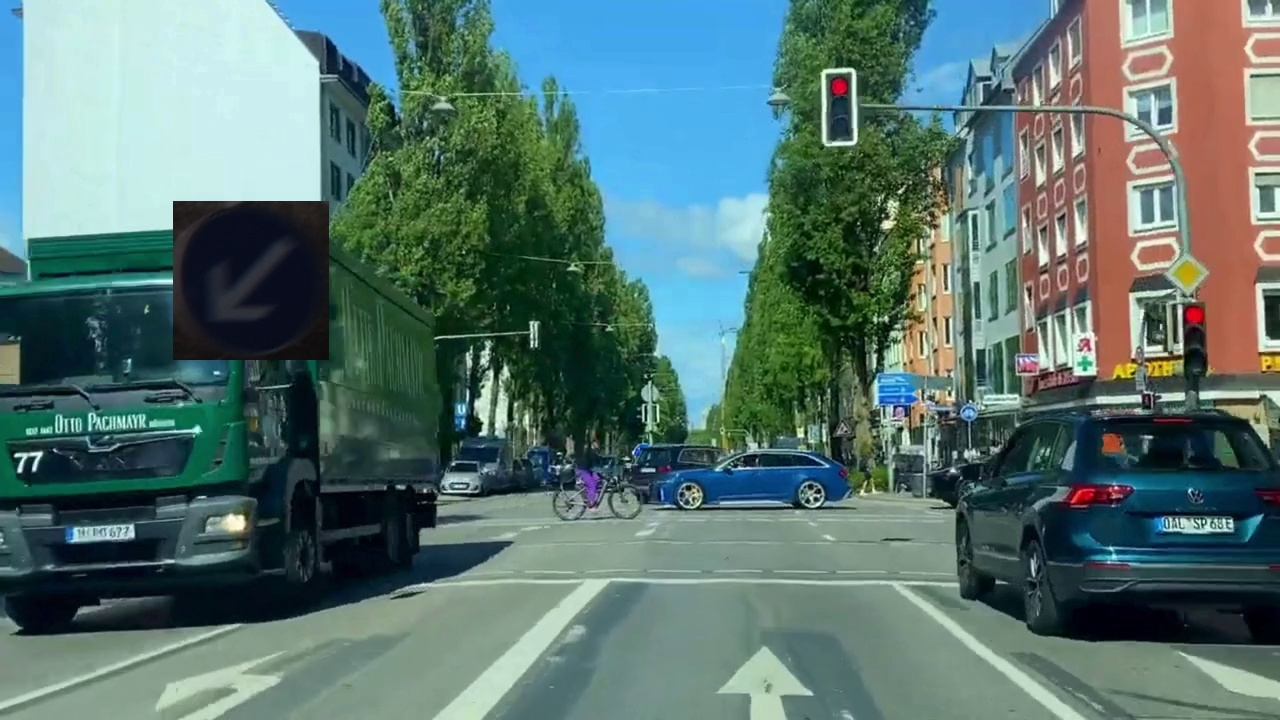Keep left: (173, 201, 329, 360)
